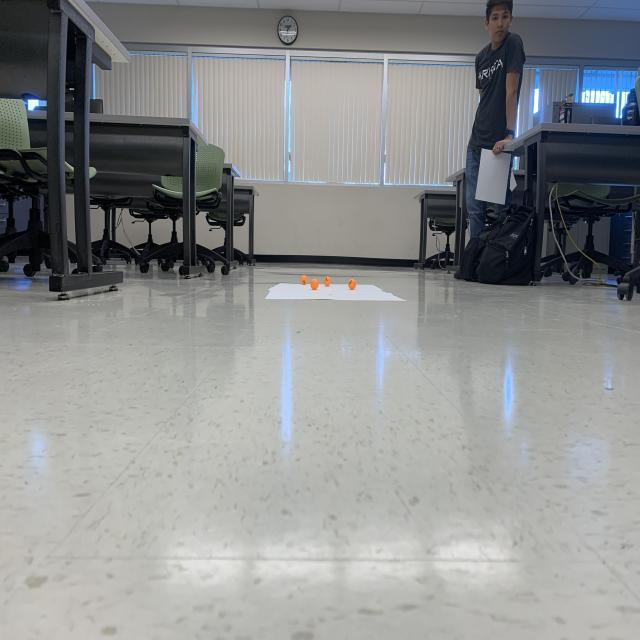ping-pong-ball: (347, 277, 357, 291), (310, 278, 320, 290), (323, 275, 332, 287), (300, 274, 308, 286)
